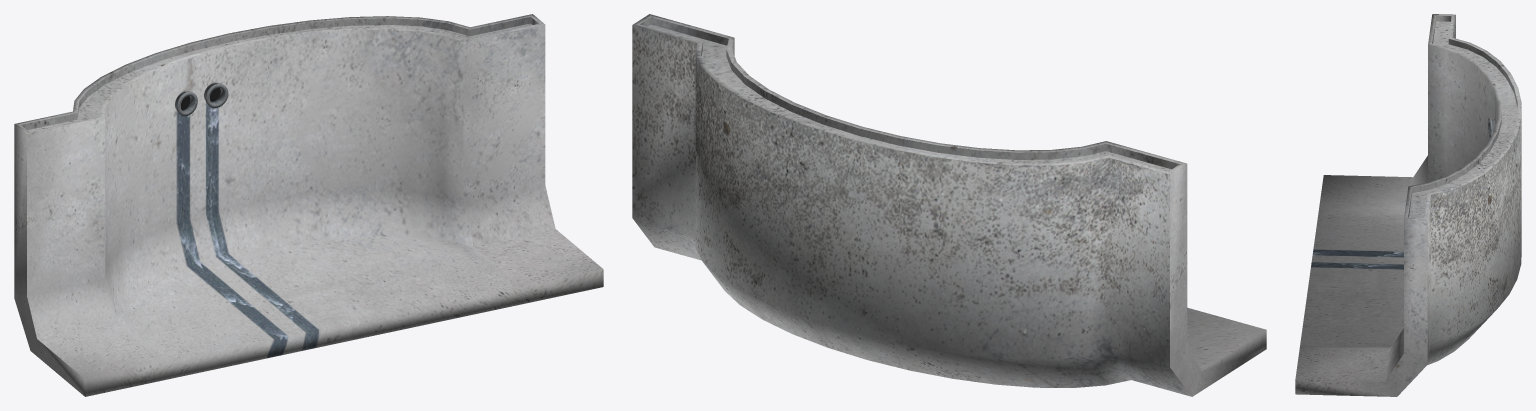
File: Dam.fbx
The picture shows the model from 3 angles, left to right: view 1: azimuth 30°, elevation 25°; view 2: azimuth 150°, elevation 25°; view 3: azimuth 270°, elevation 25°; orthographic projection. The views are drawn at different scales.
Visible parts, largest first — view 1: Circle; view 2: Circle; view 3: Circle.
Boxes of the visible parts, x1=… form: Circle: x1=14, y1=14, x2=603, y2=396; Circle: x1=632, y1=14, x2=1266, y2=396; Circle: x1=1295, y1=14, x2=1521, y2=396.
Size of the model in its own units: 1600 by 640 by 736.
